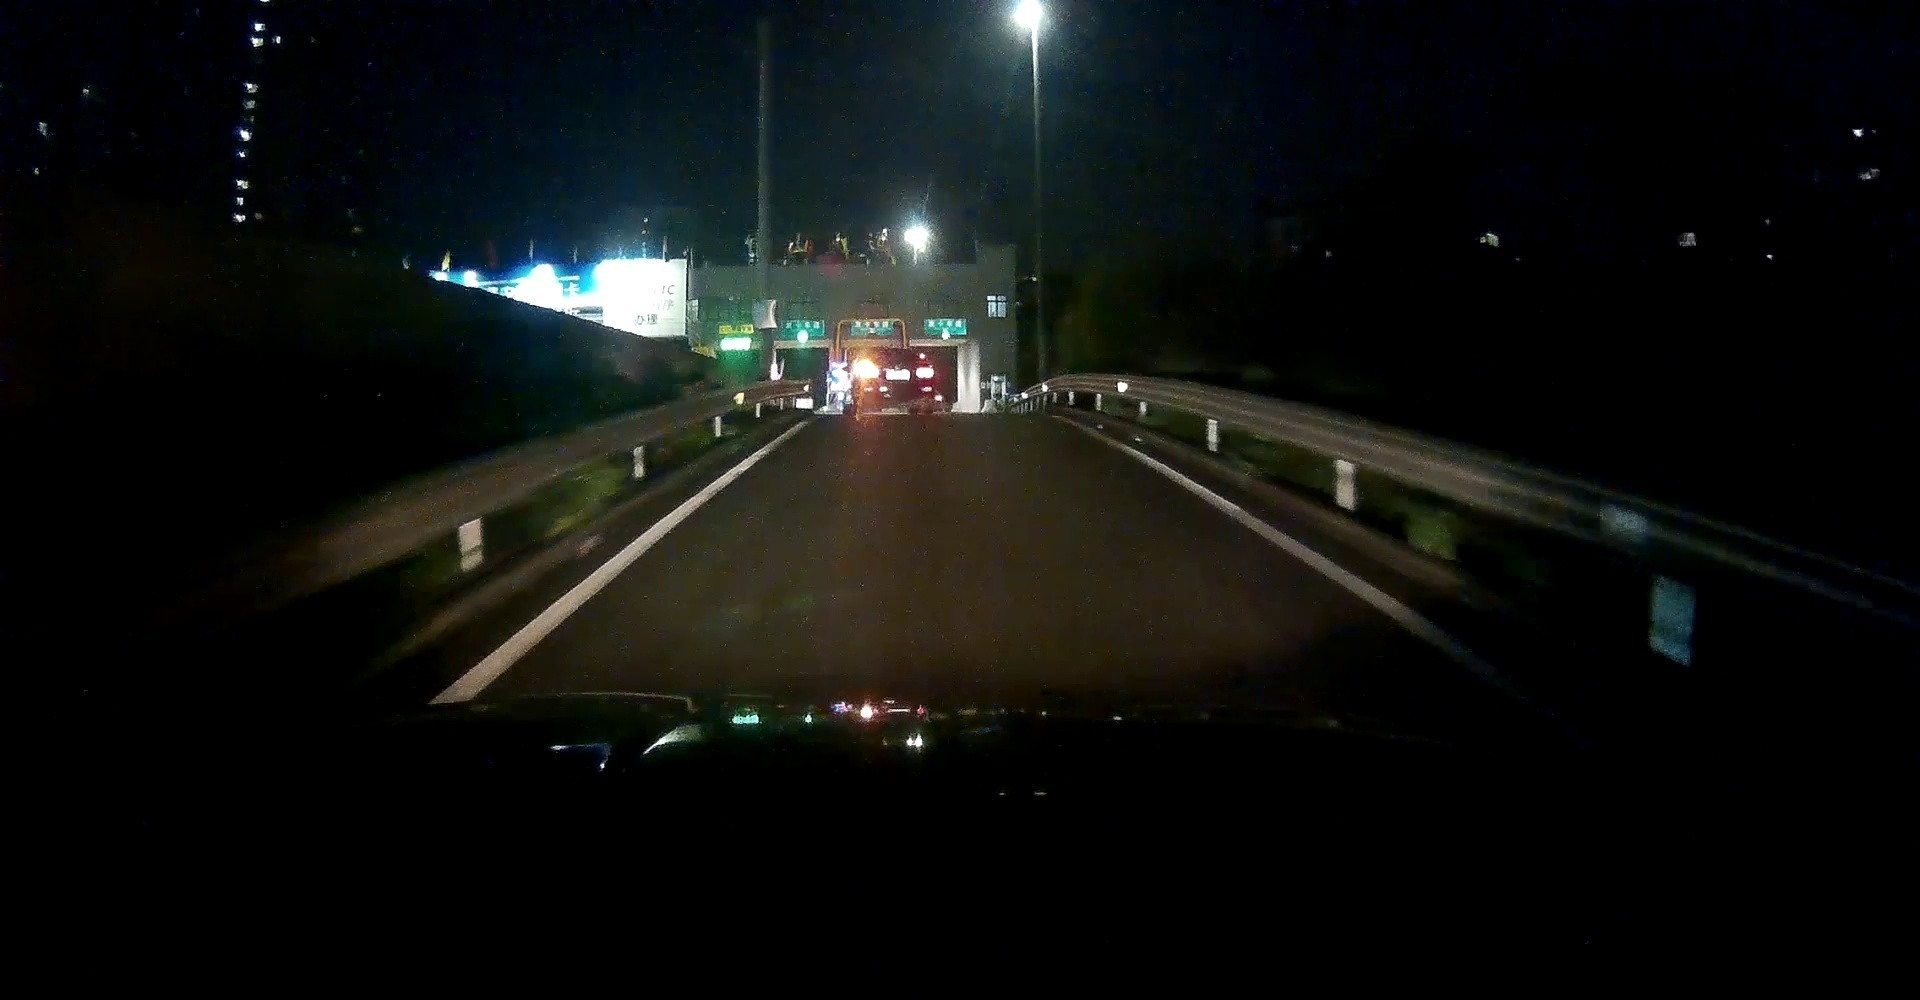L_light: (856, 360, 880, 378)
R_light: (916, 359, 935, 378)
T_light: (886, 353, 905, 359)
night-left: (851, 348, 936, 412)
